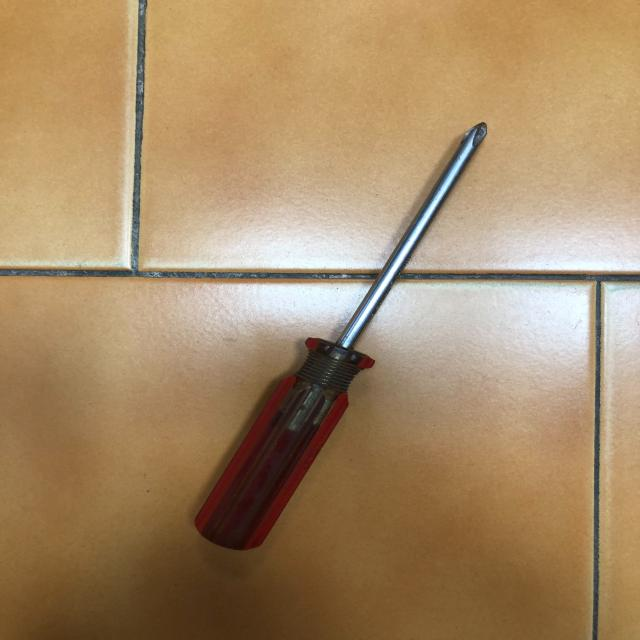Screwdriver: (195, 122, 487, 550)
